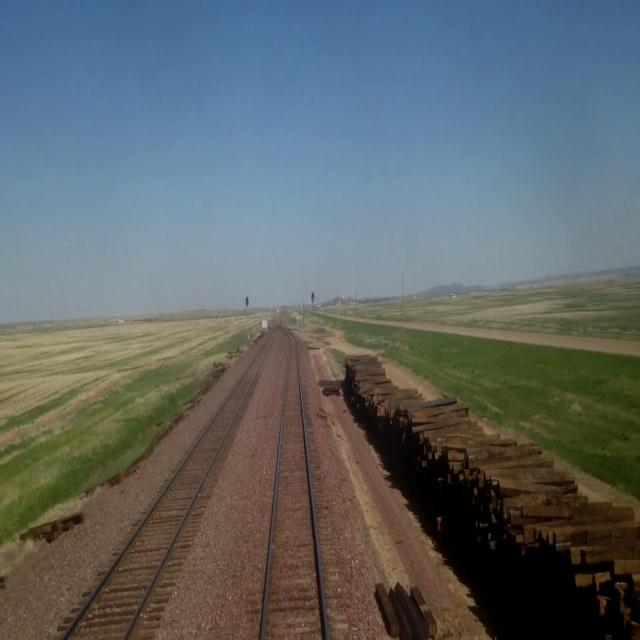rail-track: (64, 340, 270, 639), (263, 336, 323, 639)
